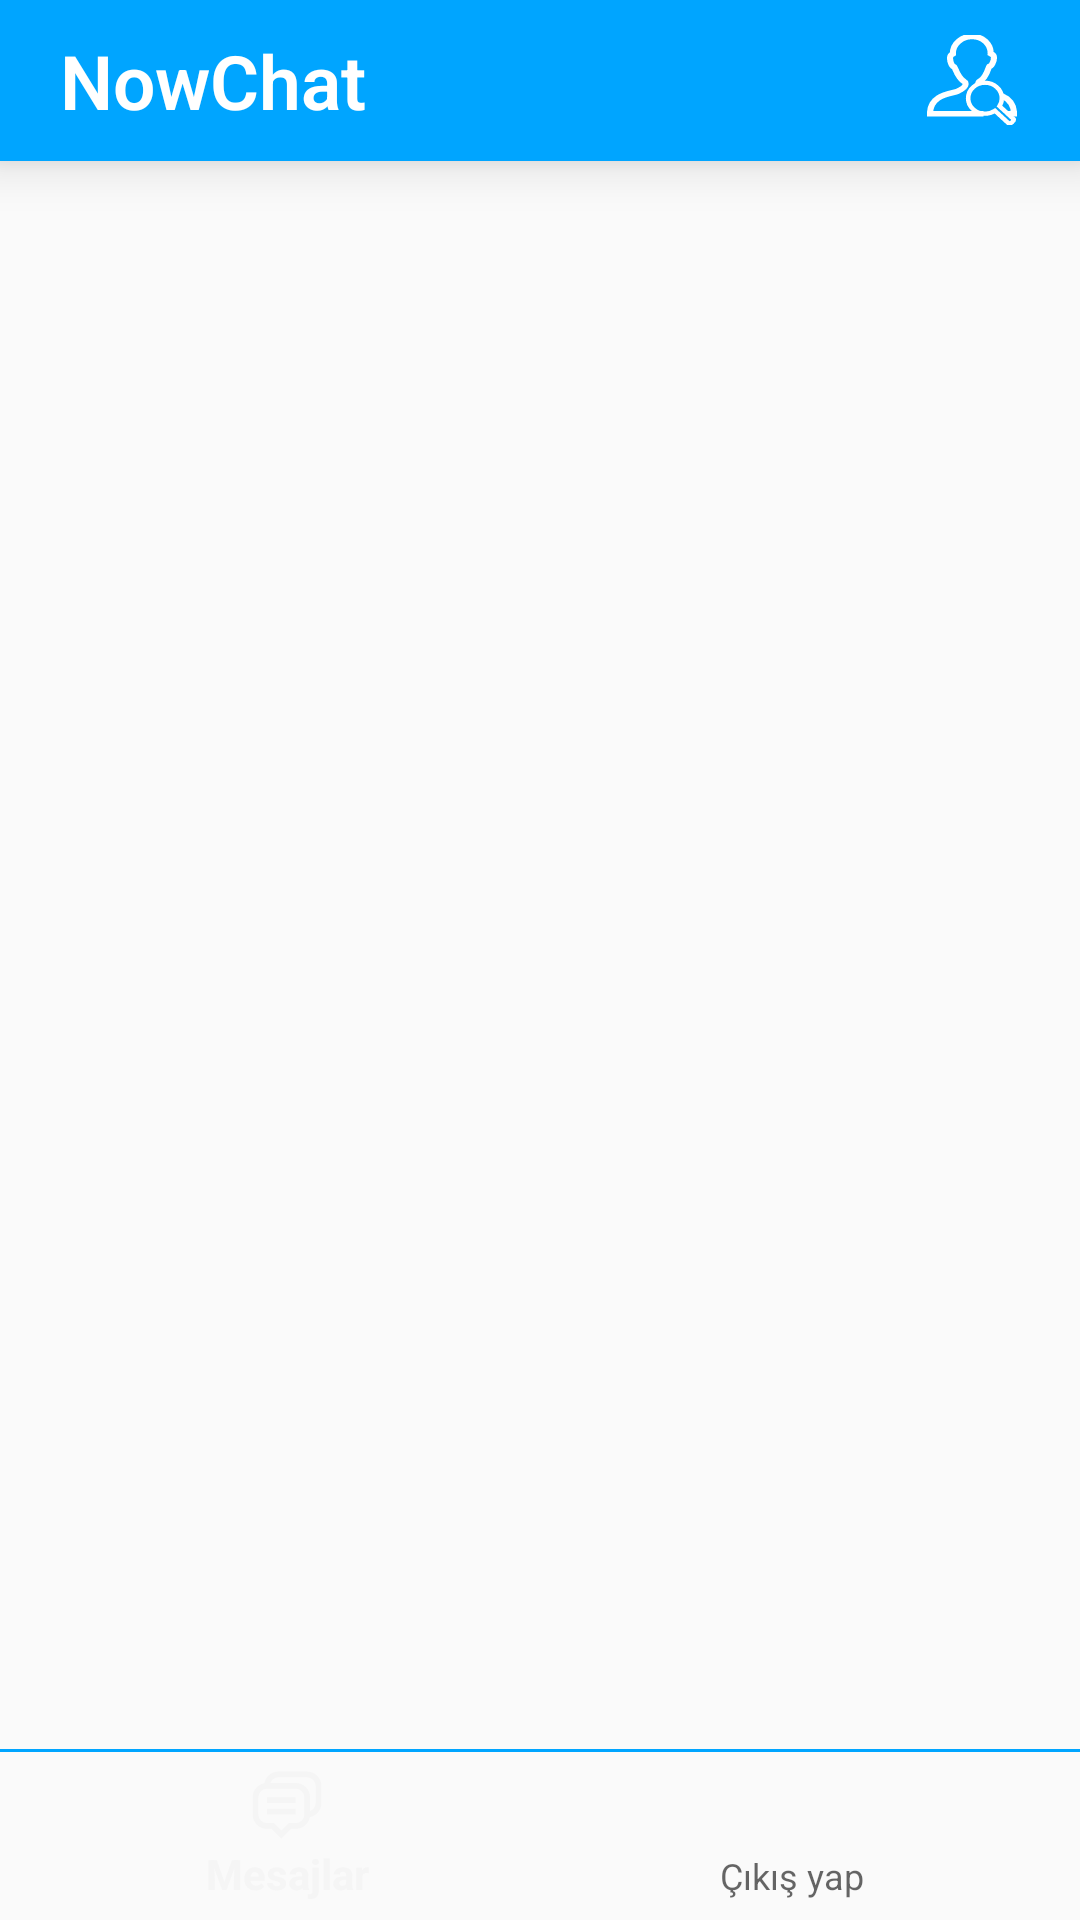

Screen size 1080*1920. Icon name, then its box in pixels as BBox(x1, y1, x2, y2):
personsearch: BBox(927, 35, 1017, 125)
